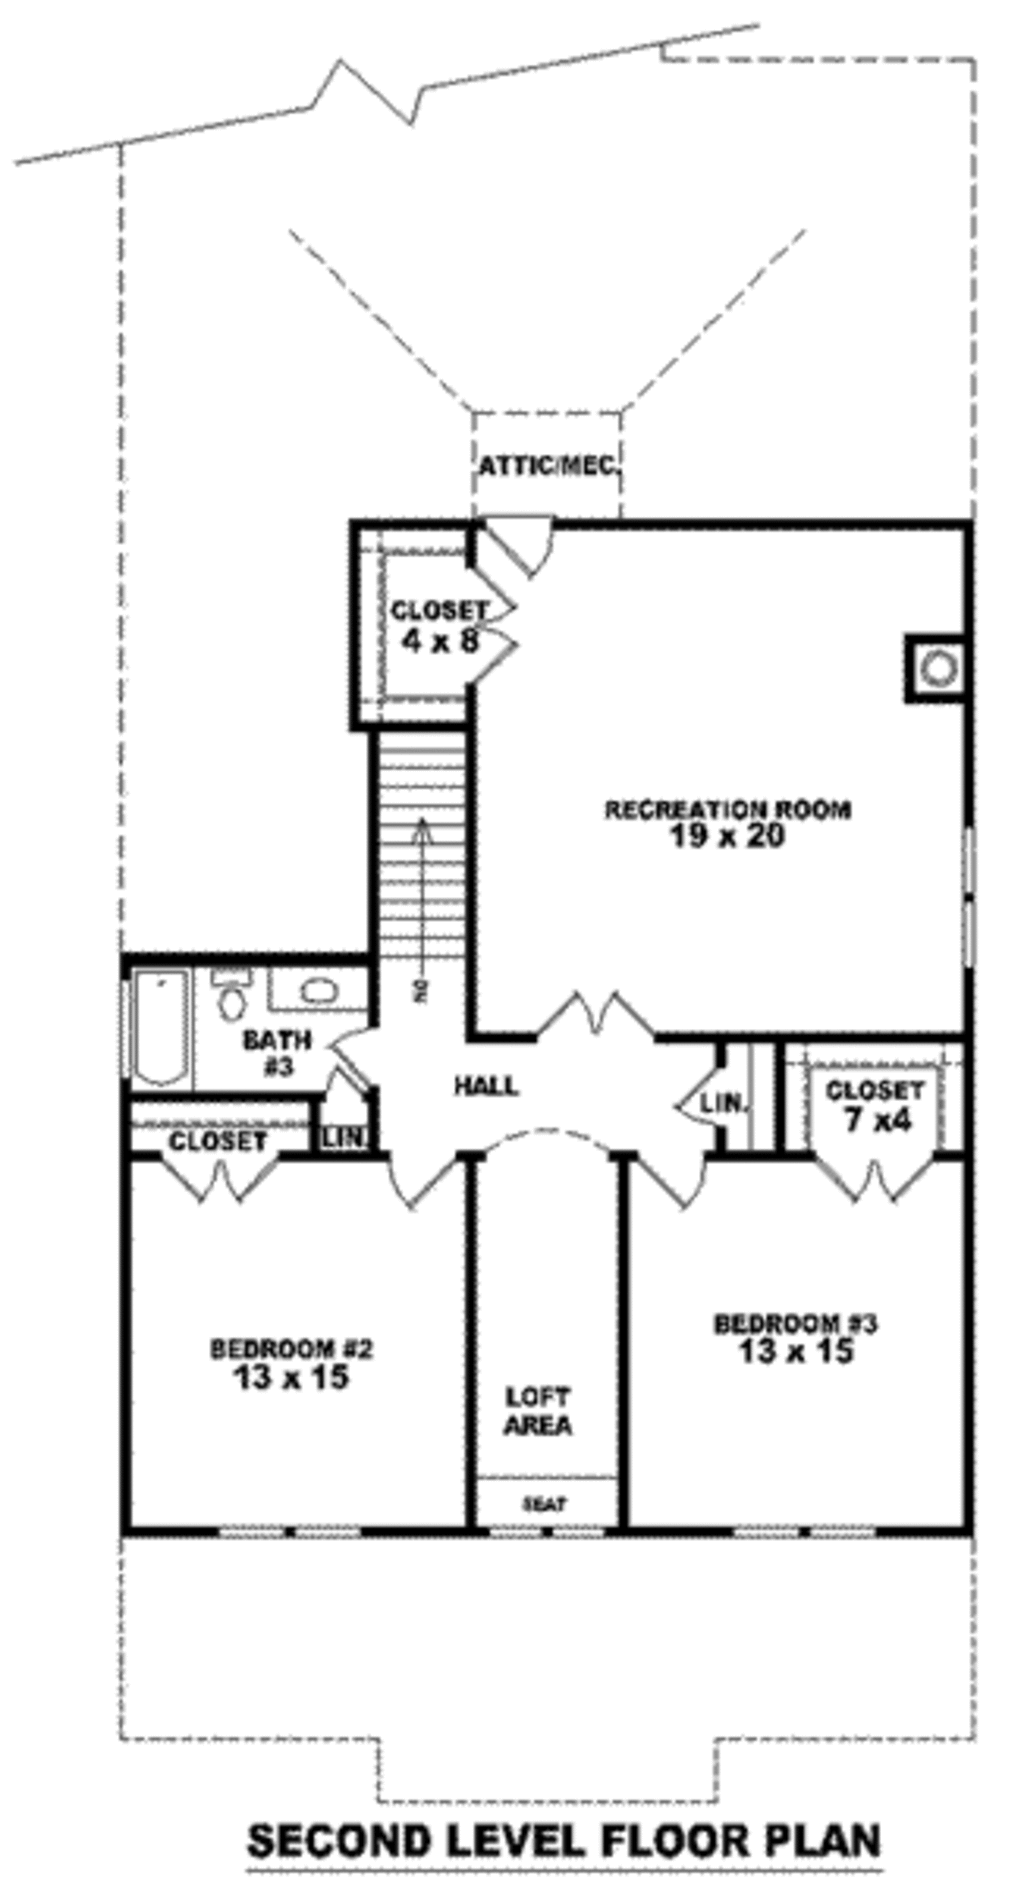door: (473, 503, 581, 617), (528, 989, 691, 1057), (451, 542, 522, 697), (806, 1144, 952, 1209), (159, 1152, 291, 1214), (375, 1146, 486, 1212), (636, 1144, 726, 1221), (322, 1007, 393, 1091), (668, 1050, 731, 1123), (293, 1062, 367, 1105)
large_sink: (203, 967, 269, 1044)
small_sink: (265, 952, 430, 1016)
stairs: (375, 724, 486, 985)
tub: (126, 973, 208, 1107)
window: (195, 1505, 404, 1563), (956, 820, 989, 997), (487, 1518, 628, 1552), (694, 1522, 871, 1548)
